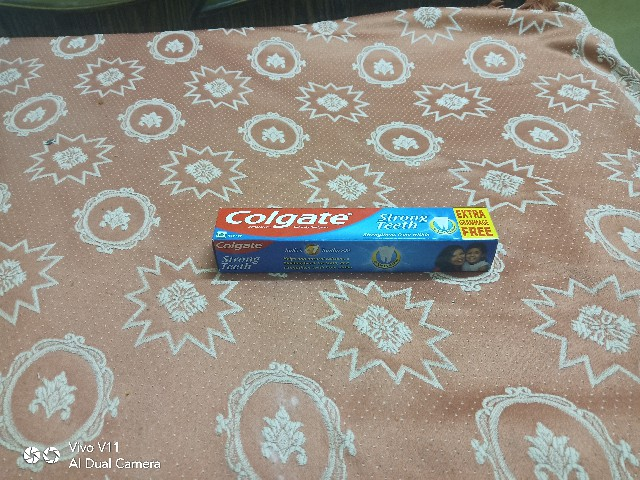colgatetoothpaste big: (204, 197, 504, 288)
